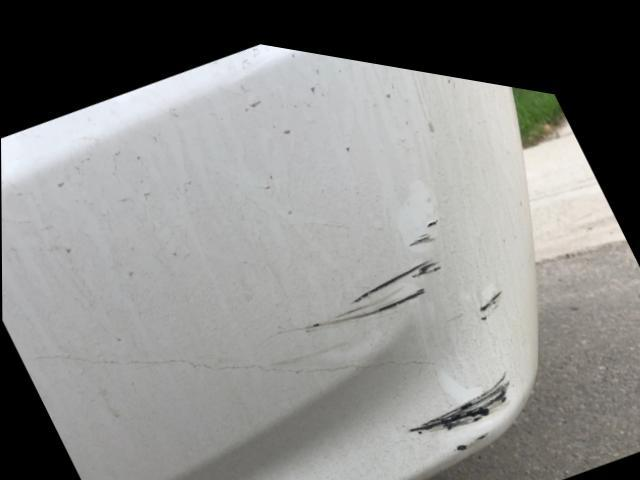scratch: (295, 200, 510, 441)
